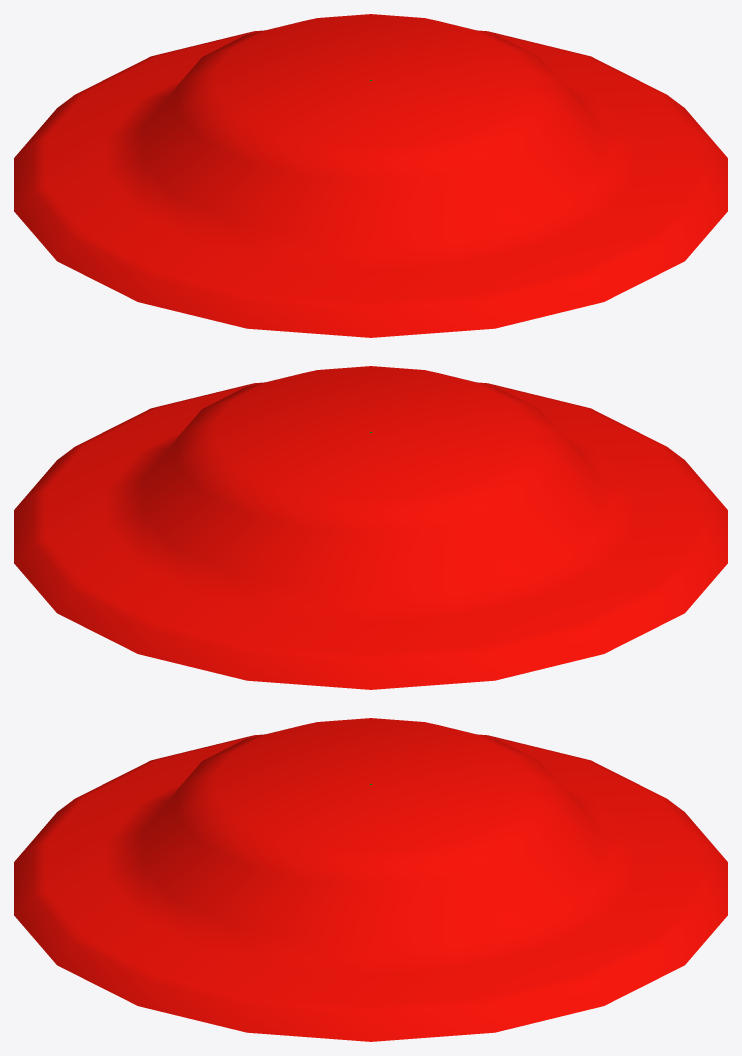
File: LampRoof.FBX
The picture shows the model from 3 angles, top to bottom: view 1: azimuth 30°, elevation 25°; view 2: azimuth 150°, elevation 25°; view 3: azimuth 270°, elevation 25°; orthographic projection.
Visible parts, largest first — view 1: LampRoof; view 2: LampRoof; view 3: LampRoof.
Part boxes in pixels (box(x1,y1,x2,y2)): LampRoof: box(14, 14, 727, 337); LampRoof: box(14, 366, 727, 689); LampRoof: box(14, 718, 727, 1041).
Size of the model in its own units: 30 by 29.54 by 7.01.
